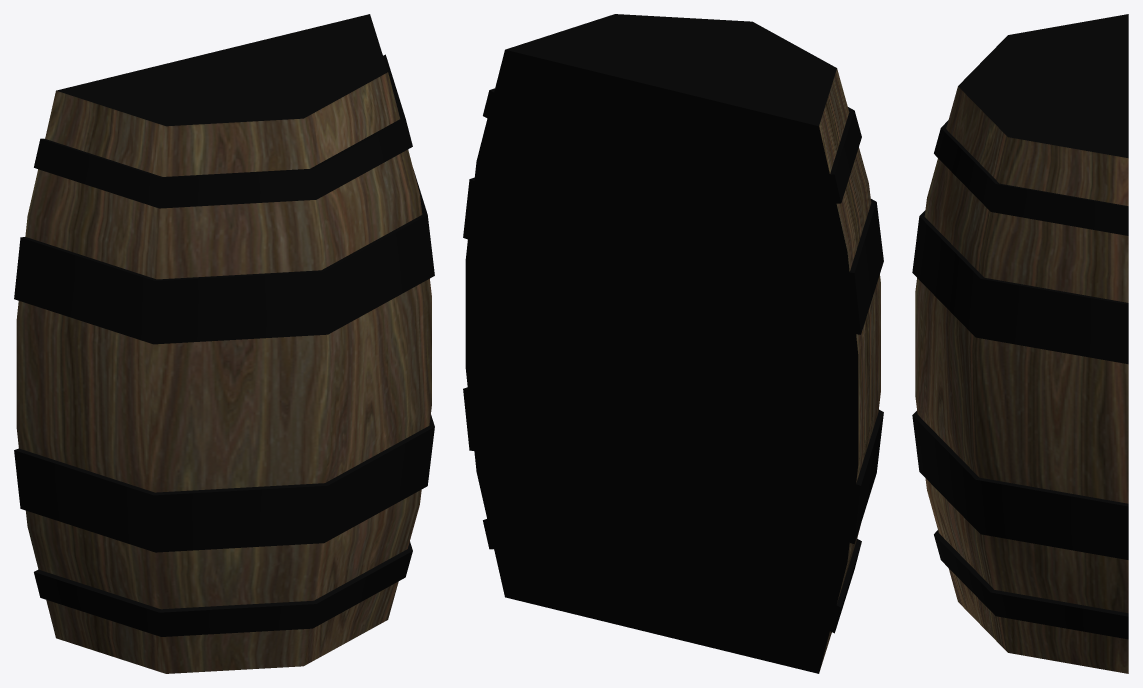
File: Ton.FBX
3 views of the same model, side by side, from view 1: azimuth 30°, elevation 25°; view 2: azimuth 150°, elevation 25°; view 3: azimuth 270°, elevation 25° (orthographic). The views are drawn at different scales.
Parts seen in each view (by area): view 1: Ton_50.000; view 2: Ton_50.000; view 3: Ton_50.000.
Part boxes in pixels (x1,y1,x2,y2): Ton_50.000: (14, 14, 434, 673); Ton_50.000: (463, 14, 883, 673); Ton_50.000: (912, 14, 1128, 673).
Size of the model in its own units: 60.83 by 80 by 30.42.
